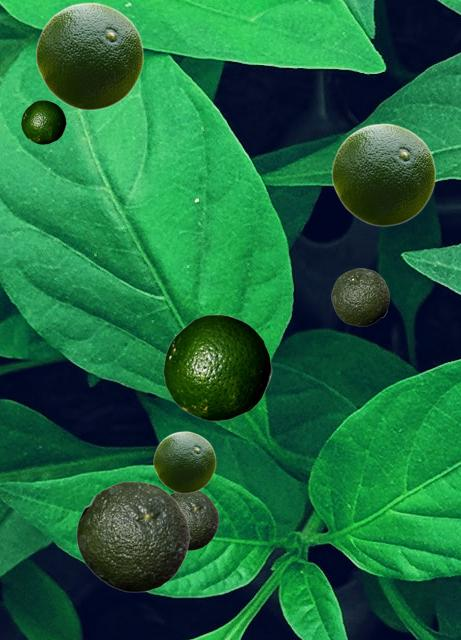calamansi: (76, 481, 189, 591), (35, 2, 143, 109), (163, 314, 271, 420), (331, 123, 435, 225), (153, 431, 215, 492), (331, 268, 388, 325), (170, 491, 218, 549), (21, 100, 65, 143)
